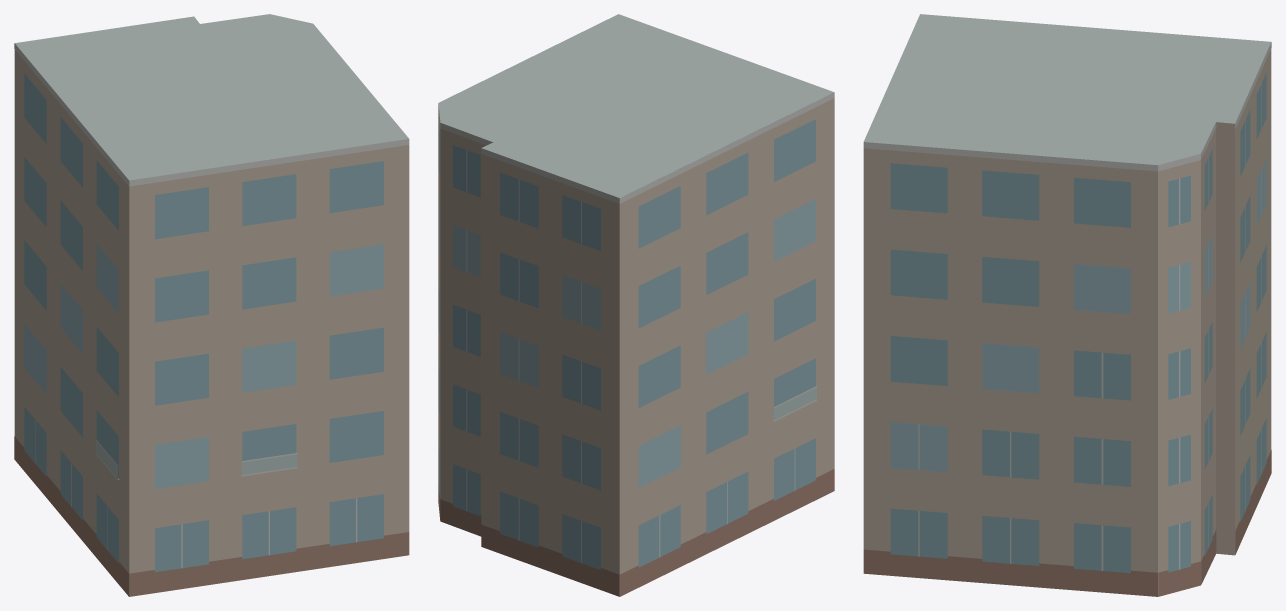
The model's file is survey-upis-32707004.glb.
The picture shows the model from 3 angles, left to right: view 1: azimuth 30°, elevation 25°; view 2: azimuth 150°, elevation 25°; view 3: azimuth 270°, elevation 25°; orthographic projection. The views are drawn at different scales.
Parts seen in each view (by area): view 1: survey-upis-32707004.tmp; view 2: survey-upis-32707004.tmp; view 3: survey-upis-32707004.tmp.
Part boxes in pixels (<box>): survey-upis-32707004.tmp: <box>14,14,409,596</box>; survey-upis-32707004.tmp: <box>438,14,834,596</box>; survey-upis-32707004.tmp: <box>863,14,1271,596</box>.
Bounding box in the file's own units: 12.71 × 16.9 × 14.48.
